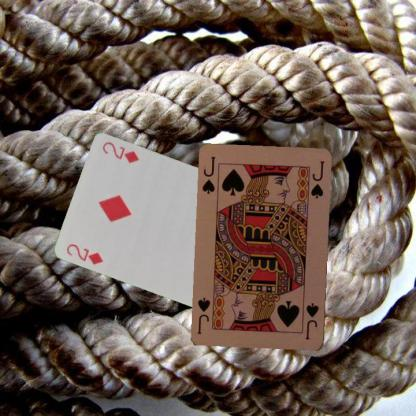2d: (64, 241, 105, 266)
Js: (303, 300, 320, 341), (200, 154, 217, 195)
